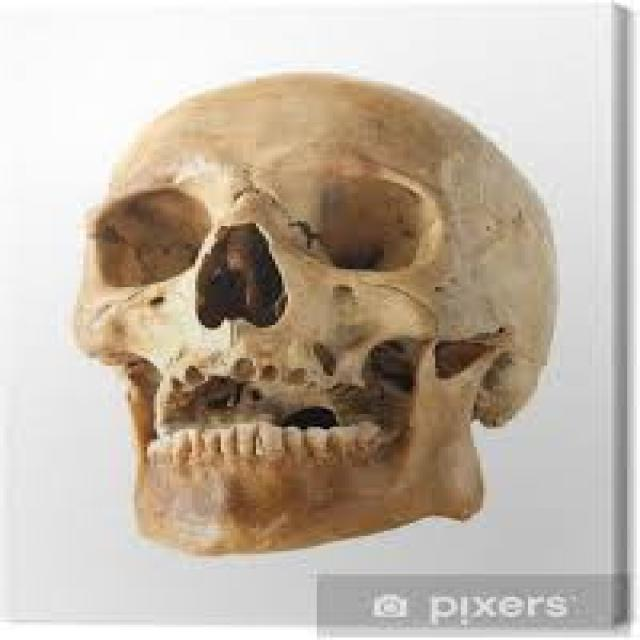skull: (58, 70, 566, 549)
